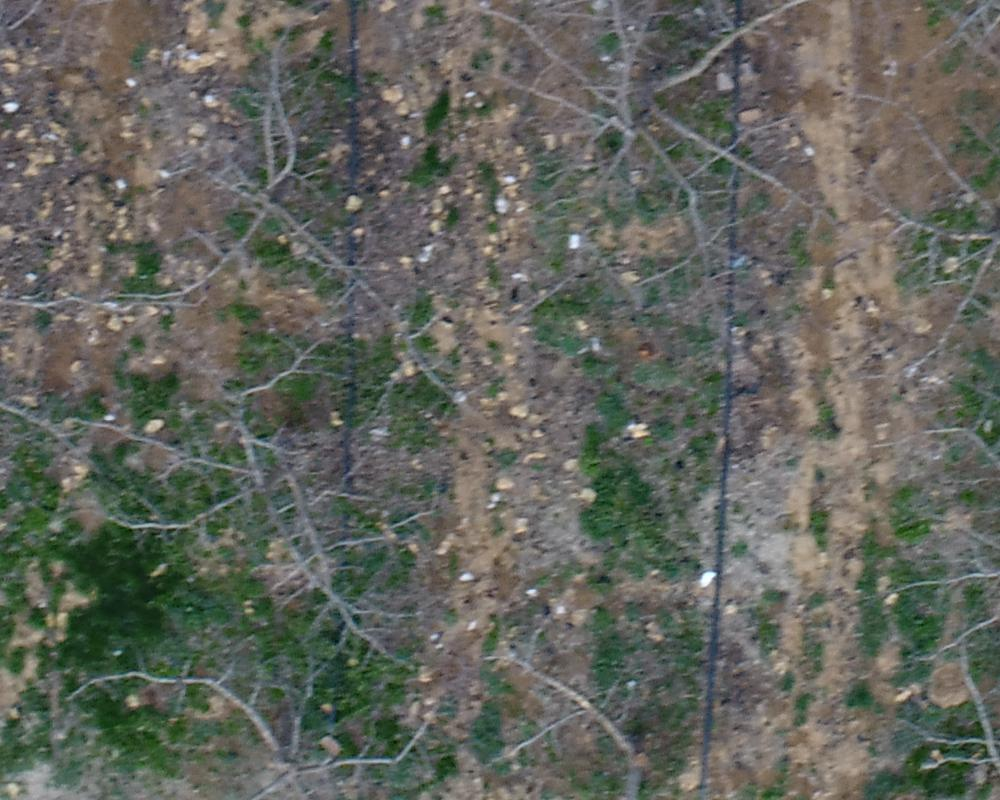apple: (47, 329, 469, 689), (446, 10, 937, 297), (69, 39, 443, 380), (66, 647, 449, 790), (847, 348, 990, 695), (469, 624, 691, 790)
